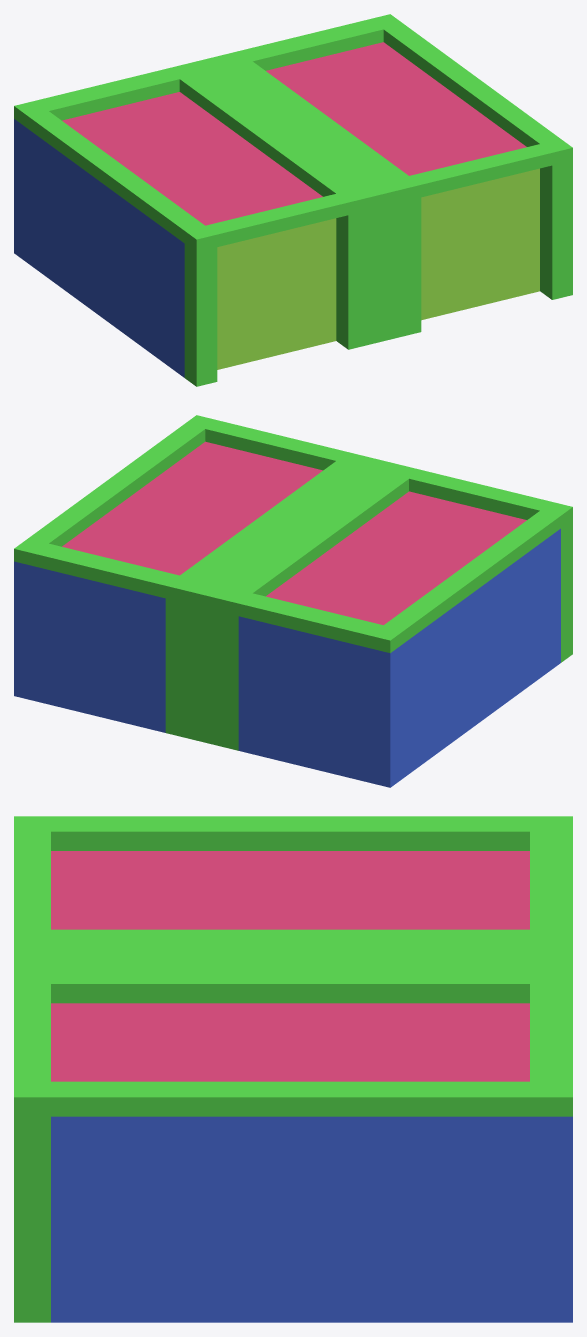
The model's file is Garage.fbx.
3 renders of one model, top to bottom at view 1: azimuth 30°, elevation 25°; view 2: azimuth 150°, elevation 25°; view 3: azimuth 270°, elevation 25°, orthographic. The views are drawn at different scales.
Visible parts, largest first — view 1: Cube; view 2: Cube; view 3: Cube.
Part boxes in pixels (x1=…): Cube: x1=14, y1=14, x2=572, y2=386; Cube: x1=14, y1=415, x2=572, y2=787; Cube: x1=14, y1=816, x2=572, y2=1322.
Size of the model in its own units: 790 by 295 by 664.
